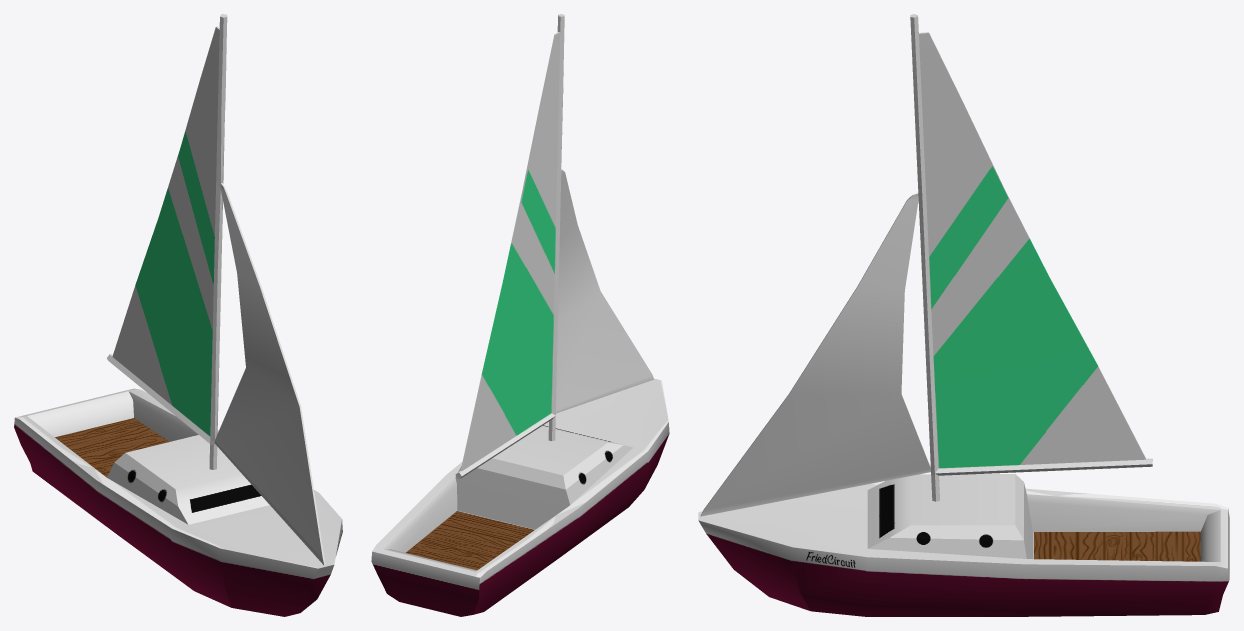
Rendered from Sailboat.fbx.
3 views of the same model, side by side, from view 1: azimuth 30°, elevation 25°; view 2: azimuth 150°, elevation 25°; view 3: azimuth 270°, elevation 25° (orthographic). The views are drawn at different scales.
Visible parts, largest first — view 1: Sailboat_Mast, Sailboat_Hull; view 2: Sailboat_Hull, Sailboat_Mast; view 3: Sailboat_Mast, Sailboat_Hull.
Boxes of the visible parts, left/top/right/bottom form: Sailboat_Mast: left=107, top=14, right=325, bottom=565; Sailboat_Hull: left=14, top=388, right=342, bottom=616; Sailboat_Hull: left=371, top=378, right=669, bottom=616; Sailboat_Mast: left=455, top=14, right=653, bottom=478; Sailboat_Mast: left=700, top=14, right=1152, bottom=516; Sailboat_Hull: left=698, top=474, right=1229, bottom=616.
Bounding box in the file's own units: 18.38 × 66.73 × 54.59.
Materials: 2 (2 with a texture image).
